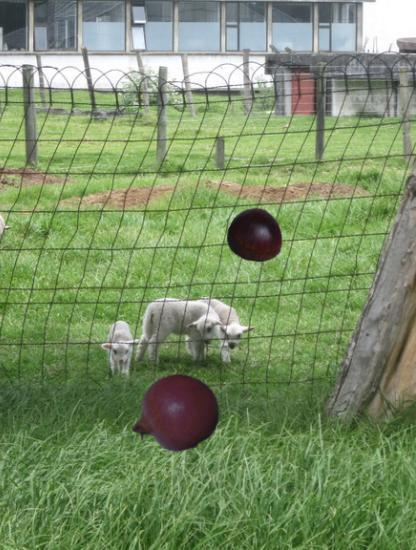Chestnut: (228, 207, 286, 265)
Pomegranate: (129, 369, 221, 461)
